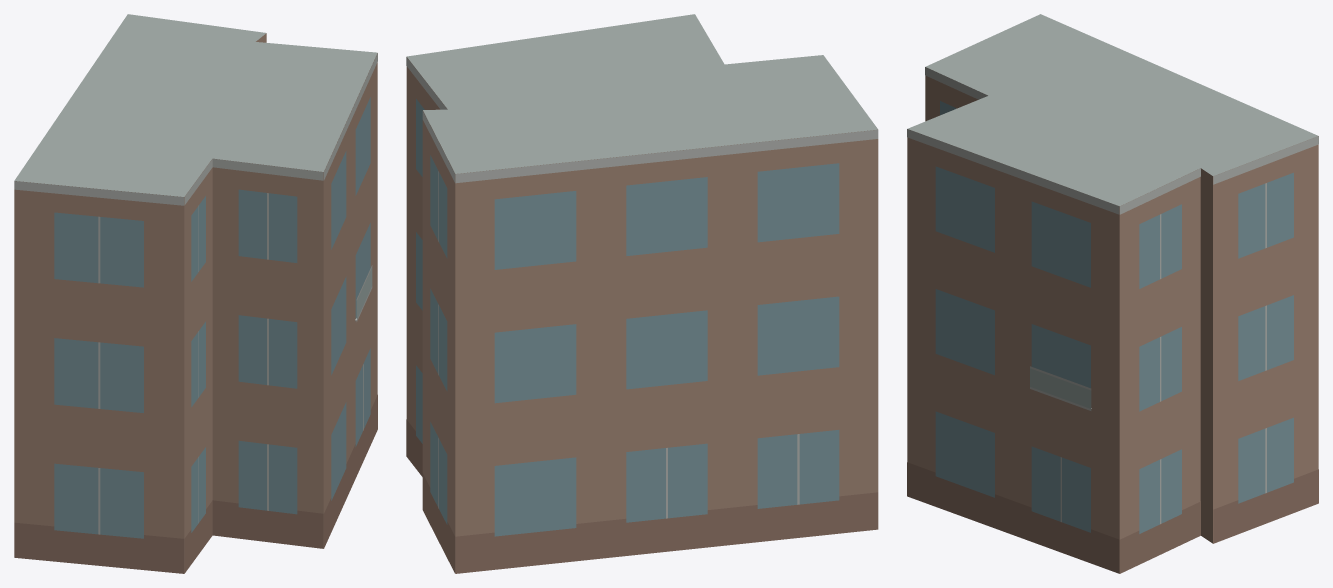
The model's file is survey-upis-32726150.glb.
3 renders of one model, left to right at view 1: azimuth 30°, elevation 25°; view 2: azimuth 150°, elevation 25°; view 3: azimuth 270°, elevation 25°, orthographic. The views are drawn at different scales.
Visible parts, largest first — view 1: survey-upis-32726150.tmp; view 2: survey-upis-32726150.tmp; view 3: survey-upis-32726150.tmp.
Boxes of the visible parts, x1,y1,x2,y2 form: survey-upis-32726150.tmp: (14,14,377,573); survey-upis-32726150.tmp: (406,14,878,573); survey-upis-32726150.tmp: (907,14,1318,573).
Bounding box in the file's own units: 11.79 × 10.5 × 10.66.
